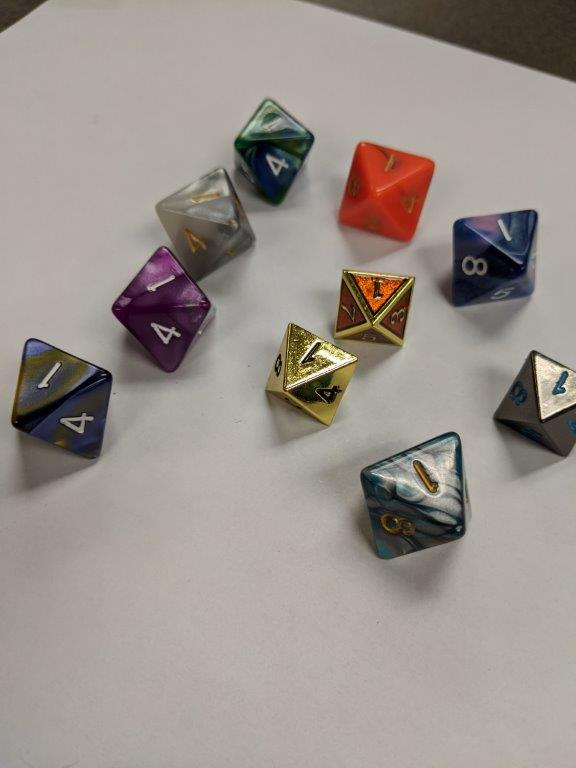d8-1: (361, 429, 473, 561), (109, 246, 214, 372), (13, 339, 111, 463), (157, 167, 256, 281), (335, 139, 436, 244), (266, 321, 359, 427), (492, 347, 576, 459), (233, 96, 314, 206), (451, 209, 539, 306), (333, 265, 416, 345)
